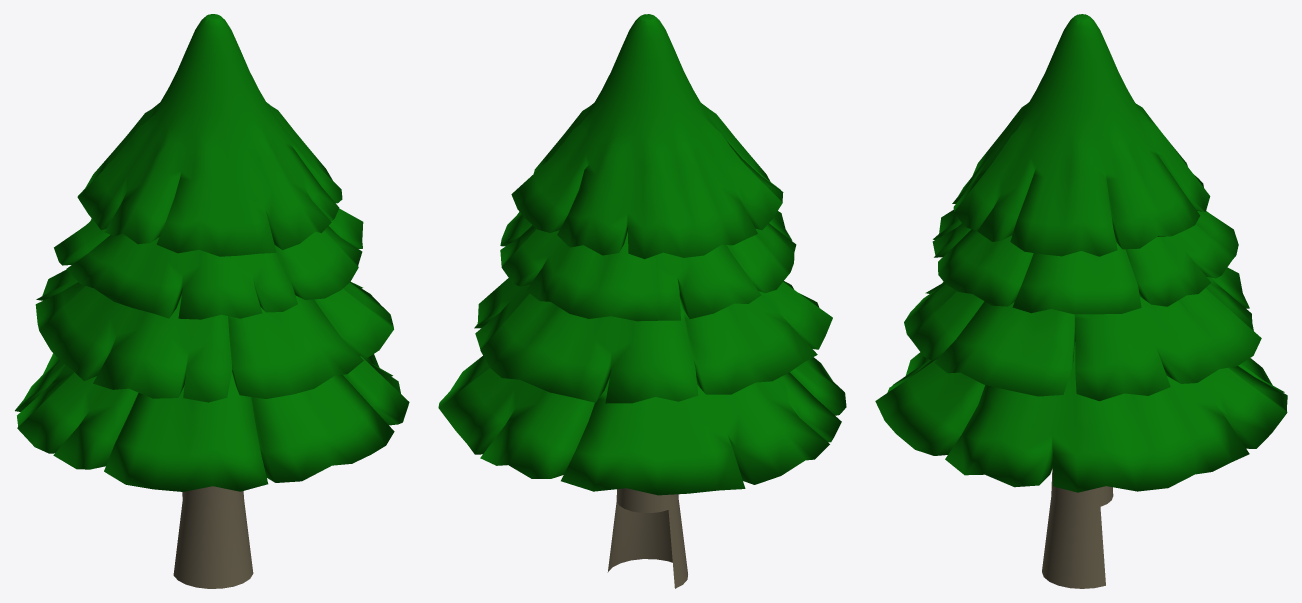
Rendered from tree.fbx.
The picture shows the model from 3 angles, left to right: view 1: azimuth 30°, elevation 25°; view 2: azimuth 150°, elevation 25°; view 3: azimuth 270°, elevation 25°; orthographic projection.
Parts seen in each view (by area): view 1: polySurface1, pCylinder5; view 2: polySurface1, pCylinder5; view 3: polySurface1, pCylinder5.
Part boxes in pixels (x1=…): polySurface1: x1=15, y1=14, x2=409, y2=491; pCylinder5: x1=173, y1=486, x2=253, y2=588; polySurface1: x1=438, y1=14, x2=846, y2=495; pCylinder5: x1=607, y1=488, x2=687, y2=588; polySurface1: x1=875, y1=14, x2=1287, y2=492; pCylinder5: x1=1042, y1=468, x2=1113, y2=588.
Size of the model in its own units: 38.97 by 59.36 by 40.
